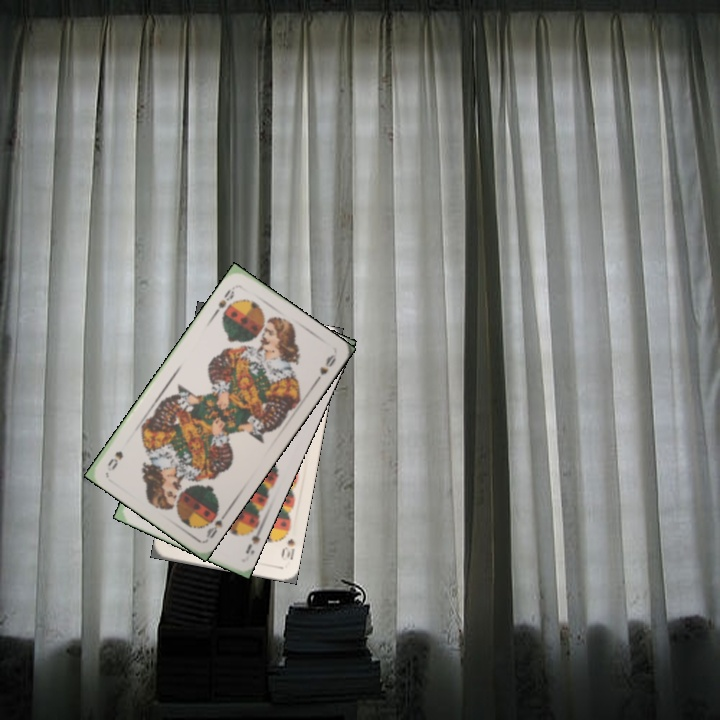S10: (277, 534, 297, 563)
S9: (241, 521, 266, 557)
SO: (202, 502, 231, 541), (210, 282, 240, 317)
